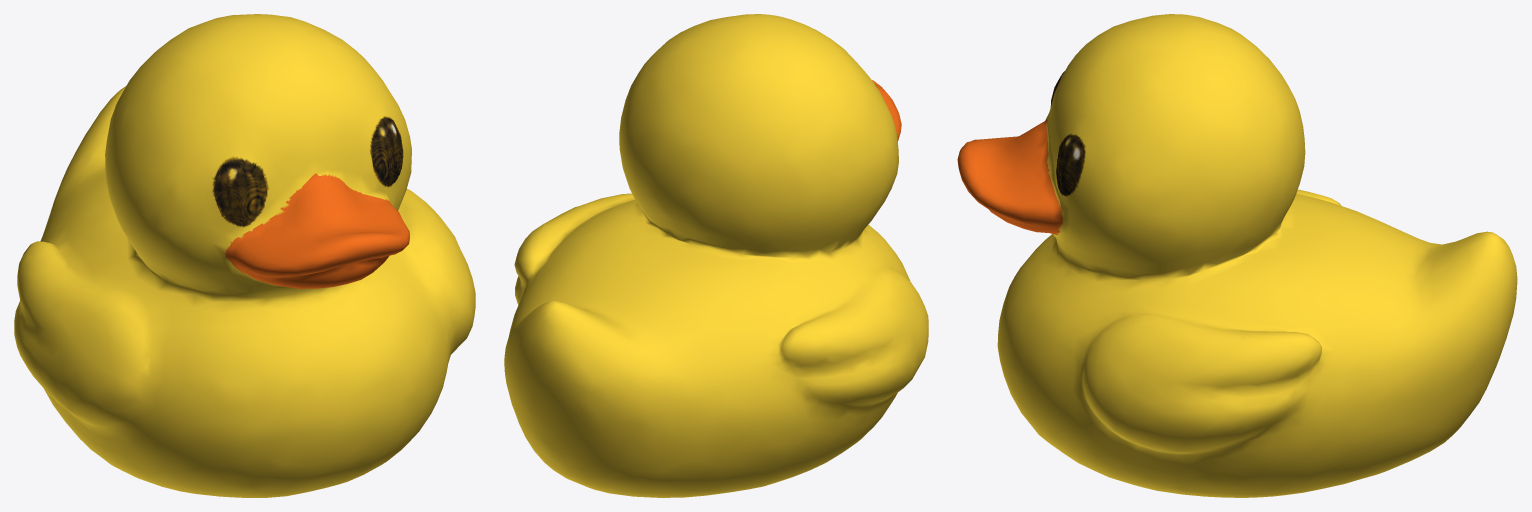
File: duck-smoothed.glb
The picture shows the model from 3 angles, left to right: view 1: azimuth 30°, elevation 25°; view 2: azimuth 150°, elevation 25°; view 3: azimuth 270°, elevation 25°; orthographic projection. The views are drawn at different scales.
Size of the model in its own units: 0.8084 by 0.8313 by 1.
Materials: 1 (1 with a texture image).
